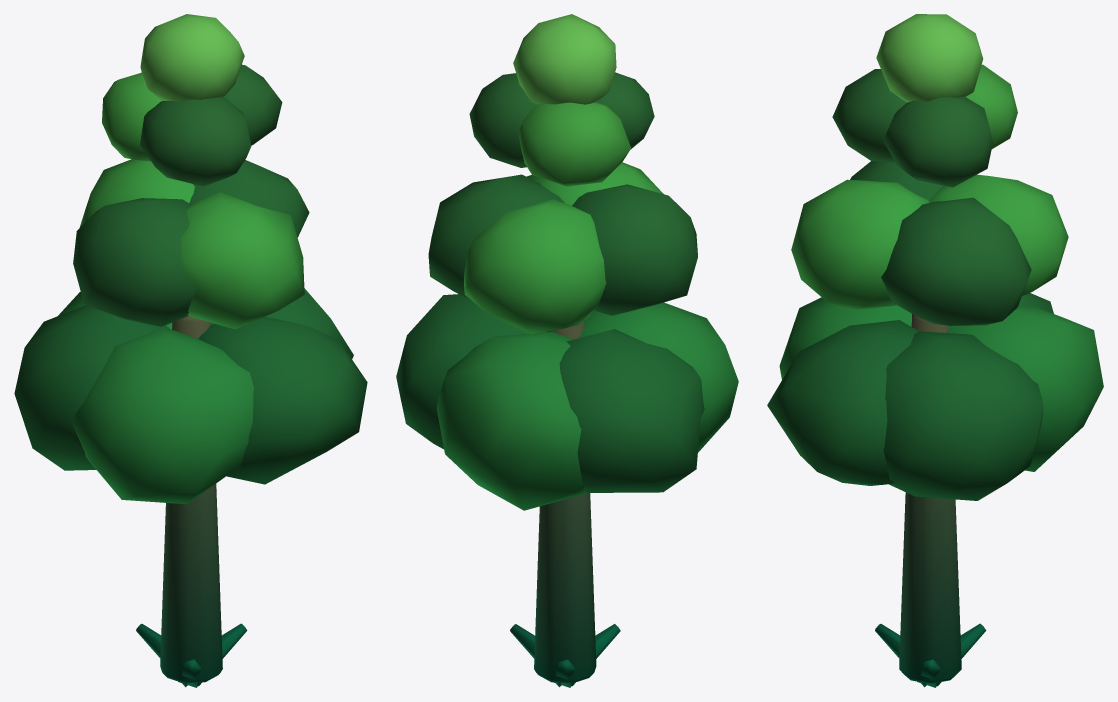
Rendered from tree_b.glb.
3 views of the same model, side by side, from view 1: azimuth 30°, elevation 25°; view 2: azimuth 150°, elevation 25°; view 3: azimuth 270°, elevation 25° (orthographic).
Visible parts, largest first — view 1: tree_b; view 2: tree_b; view 3: tree_b.
Part boxes in pixels (x1=…): tree_b: x1=14, y1=14, x2=367, y2=687; tree_b: x1=396, y1=14, x2=738, y2=687; tree_b: x1=767, y1=14, x2=1103, y2=687.
Bounding box in the file's own units: 2.07 × 4.43 × 2.02.
